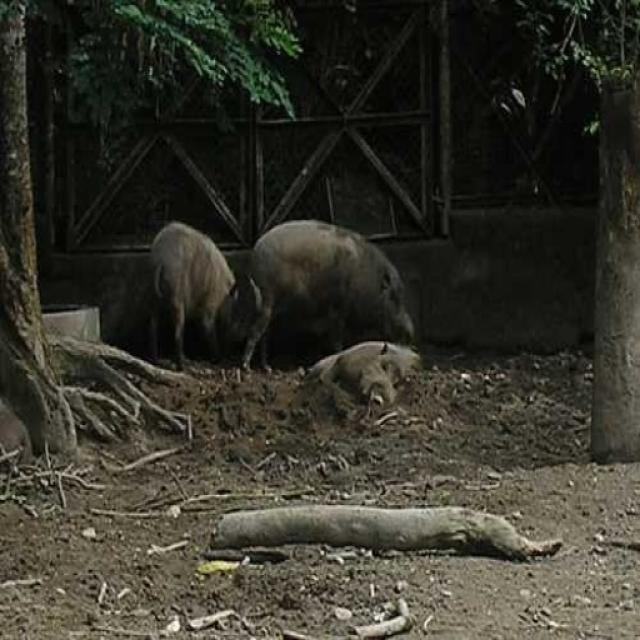pig: (247, 190, 430, 354), (128, 208, 258, 416), (321, 324, 425, 429)
